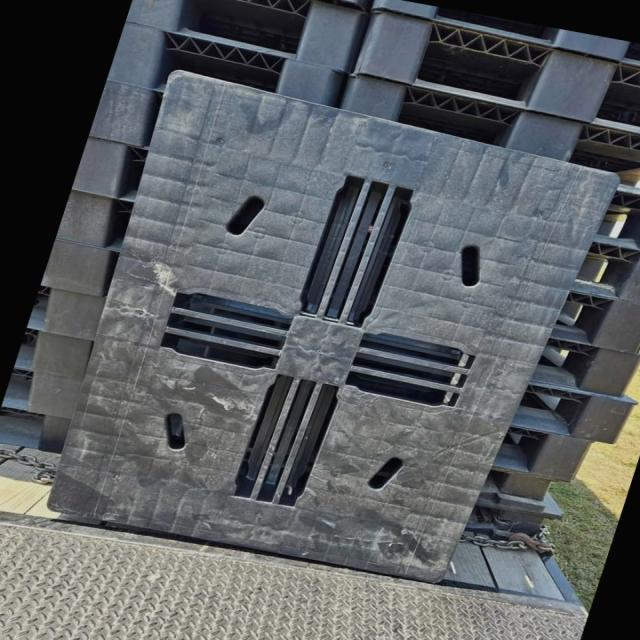non-igps: (42, 64, 628, 592), (78, 0, 640, 203), (459, 230, 639, 544)
